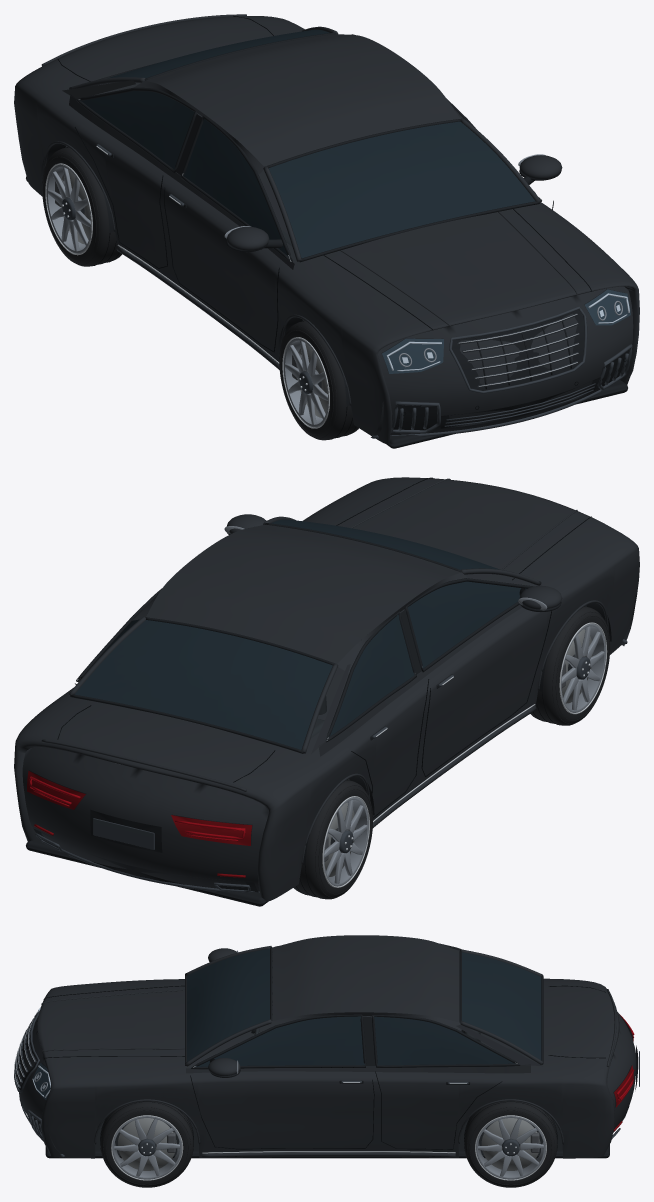
File: legion-sedan-compressed.glb
3 views of the same model, one above another, from view 1: azimuth 30°, elevation 25°; view 2: azimuth 150°, elevation 25°; view 3: azimuth 270°, elevation 25° (orthographic). The views are drawn at different scales.
Visible parts, largest first — view 1: Body, Roof, Glass, Rear_glass, Arch_liner, Bumper_lower_edge, Tire_RR, Tire_FR, Grille, Rim_RR, Rim_FR, Headlight_cover (+5 smaller); view 2: Body, Rear_glass, Roof, Arch_liner, Tire_FR, Tire_RR, Rim_RR, Rim_FR, Glass, Bumper_lower_edge, Rear_lamp_cover, Door_seam (+2 smaller); view 3: Body, Rear_glass, Roof, Glass, Arch_liner, Tire_RL, Tire_FL, Rim_RL, Rim_FL, Bumper_lower_edge, Door_seam, Brake_rotor.003 (+5 smaller).
Boxes of the visible parts, x1,y1,x2,y2 form: Body: [14, 14, 639, 444]; Roof: [146, 34, 460, 166]; Glass: [269, 121, 535, 258]; Rear_glass: [80, 29, 329, 260]; Arch_liner: [26, 32, 628, 448]; Bumper_lower_edge: [96, 144, 632, 438]; Tire_RR: [42, 147, 122, 266]; Tire_FR: [279, 321, 358, 440]; Grille: [451, 309, 584, 390]; Rim_RR: [46, 164, 91, 253]; Rim_FR: [283, 338, 328, 427]; Headlight_cover: [382, 338, 443, 373]; Body: [14, 477, 639, 901]; Rear_glass: [75, 581, 526, 749]; Roof: [146, 524, 460, 663]; Arch_liner: [26, 523, 611, 906]; Tire_FR: [530, 606, 610, 725]; Tire_RR: [293, 780, 372, 899]; Rim_RR: [323, 797, 368, 886]; Rim_FR: [561, 624, 605, 712]; Glass: [271, 519, 499, 569]; Bumper_lower_edge: [35, 639, 627, 892]; Rear_lamp_cover: [171, 815, 252, 845]; Door_seam: [57, 477, 591, 818]; Body: [18, 946, 636, 1158]; Rear_glass: [195, 952, 541, 1066]; Roof: [272, 935, 459, 1022]; Glass: [187, 949, 269, 1061]; Arch_liner: [15, 943, 638, 1158]; Tire_RL: [464, 1101, 557, 1187]; Tire_FL: [100, 1101, 193, 1187]; Rim_RL: [476, 1116, 545, 1179]; Rim_FL: [112, 1116, 181, 1179]; Bumper_lower_edge: [14, 1012, 639, 1157]; Door_seam: [21, 985, 605, 1149]; Brake_rotor.003: [481, 1118, 540, 1170].
Size of the model in its own units: 2.33 by 1.49 by 4.99.
